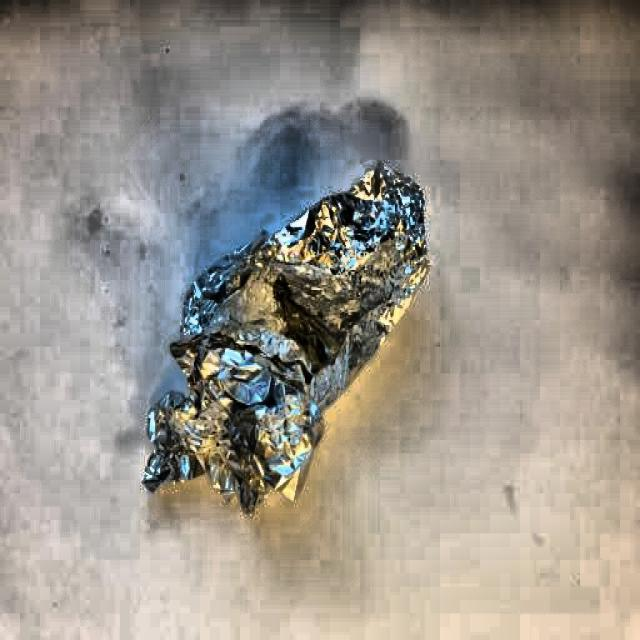metal: (144, 164, 426, 506)
